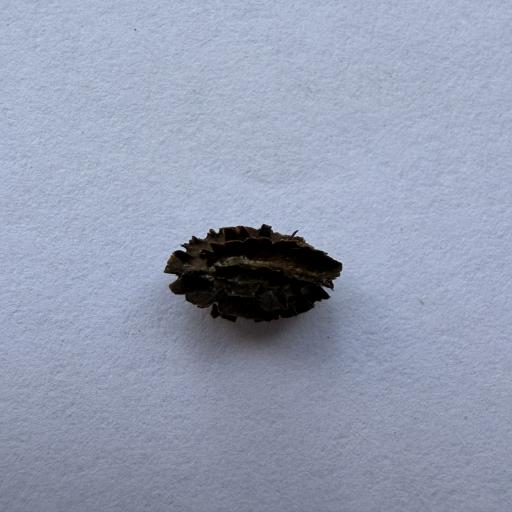papaya_seed: (168, 209, 350, 331)
